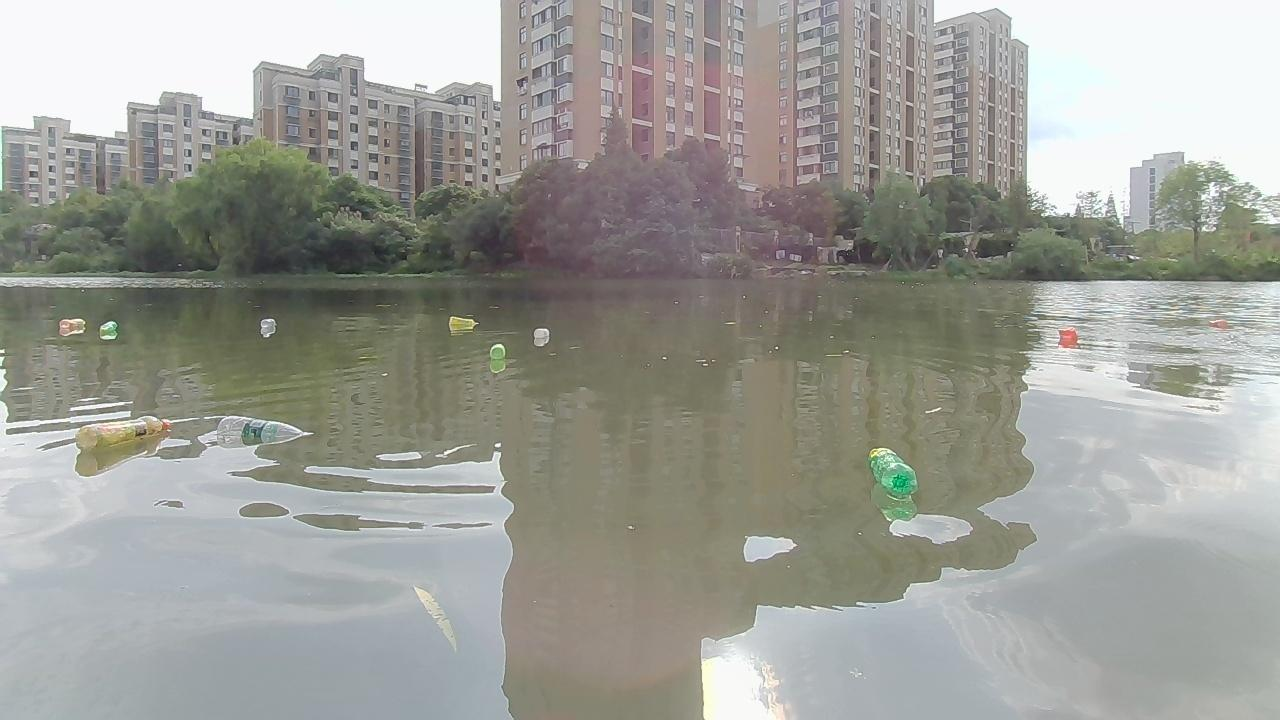bottle: (76, 413, 170, 460), (217, 411, 305, 454), (867, 442, 917, 495), (1053, 324, 1096, 347), (443, 316, 482, 332), (95, 321, 125, 339), (56, 317, 83, 335), (486, 341, 504, 363), (533, 324, 550, 344), (261, 319, 274, 338)
